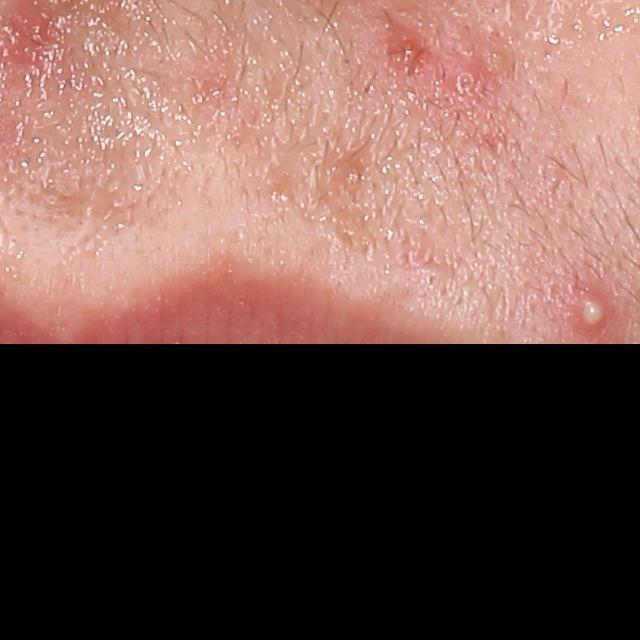comedo: (450, 66, 488, 102)
papule: (2, 6, 49, 68), (384, 32, 422, 72)
pustule: (566, 281, 616, 332)
